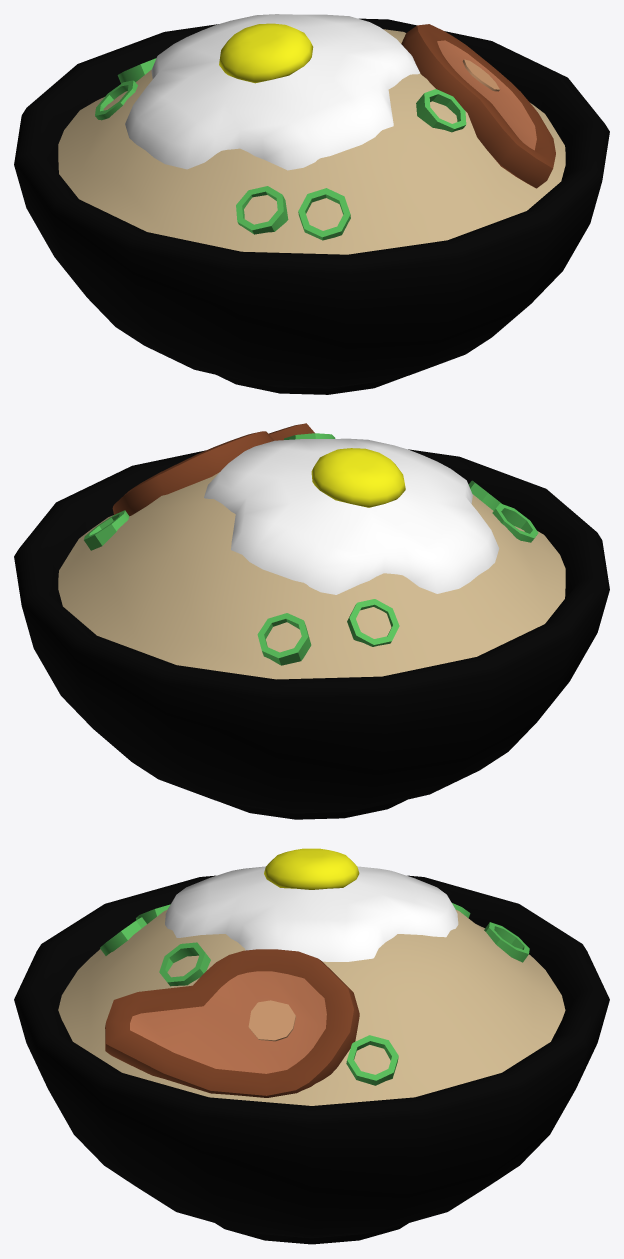
Rendered from ASFTR_Bowl_RiceHumanEggOnion.fbx.
3 renders of one model, top to bottom at view 1: azimuth 30°, elevation 25°; view 2: azimuth 150°, elevation 25°; view 3: azimuth 270°, elevation 25°, orthographic.
Visible parts, largest first — view 1: ASFTR_Bowl_RiceHumanEggOnion; view 2: ASFTR_Bowl_RiceHumanEggOnion; view 3: ASFTR_Bowl_RiceHumanEggOnion.
Part boxes in pixels (bbox=[...]): ASFTR_Bowl_RiceHumanEggOnion: bbox=[14, 14, 609, 394]; ASFTR_Bowl_RiceHumanEggOnion: bbox=[14, 423, 609, 819]; ASFTR_Bowl_RiceHumanEggOnion: bbox=[14, 848, 609, 1244].
Size of the model in its own units: 60.78 by 35.67 by 60.78.
